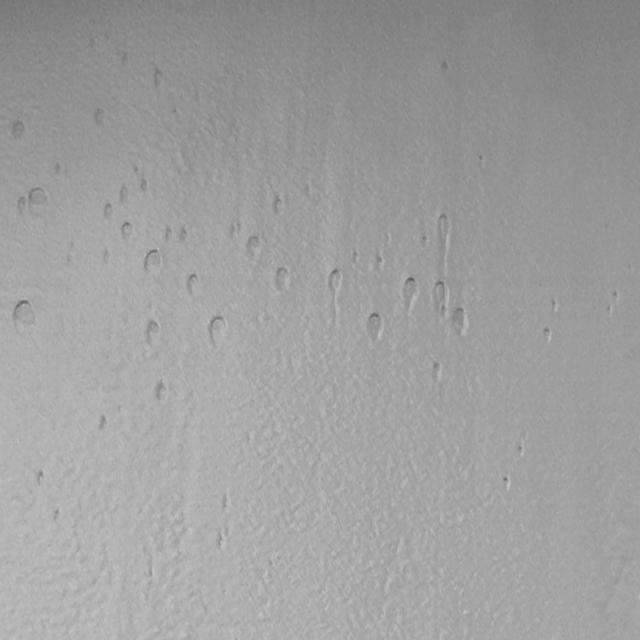pin holes: (8, 298, 38, 334), (23, 186, 51, 218), (205, 313, 230, 347), (433, 214, 455, 249), (362, 310, 384, 341), (400, 276, 420, 310), (324, 268, 344, 299), (452, 306, 472, 335), (6, 117, 28, 143), (142, 248, 164, 274), (273, 266, 294, 293), (430, 281, 448, 312), (144, 316, 163, 343), (151, 379, 170, 405), (270, 194, 289, 220), (185, 271, 202, 298), (117, 219, 135, 244), (247, 236, 264, 262), (94, 413, 113, 436), (33, 467, 52, 490), (15, 193, 31, 219), (92, 108, 109, 132), (152, 67, 168, 91), (215, 532, 231, 555), (432, 360, 446, 386), (540, 327, 556, 347), (49, 505, 64, 525), (439, 57, 453, 76), (162, 225, 175, 244), (53, 160, 66, 179), (180, 226, 192, 246), (120, 52, 133, 70), (118, 186, 131, 204), (102, 201, 114, 220), (515, 442, 527, 461), (220, 492, 229, 517), (229, 223, 243, 239), (99, 249, 112, 266), (138, 179, 150, 197), (376, 254, 388, 272), (351, 246, 360, 269), (501, 475, 513, 492), (131, 163, 144, 178), (549, 297, 560, 314), (420, 232, 431, 248), (476, 153, 487, 168), (606, 304, 616, 320), (612, 289, 622, 304)
